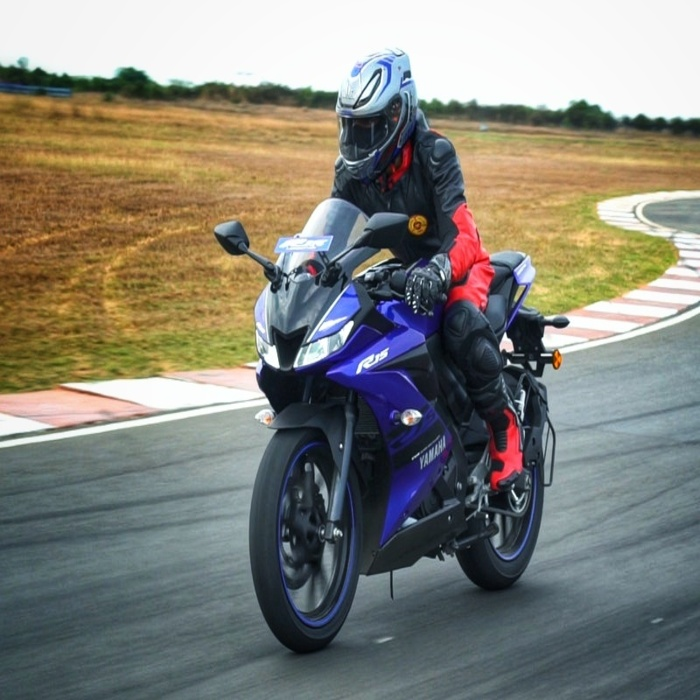h: (332, 43, 421, 187)
